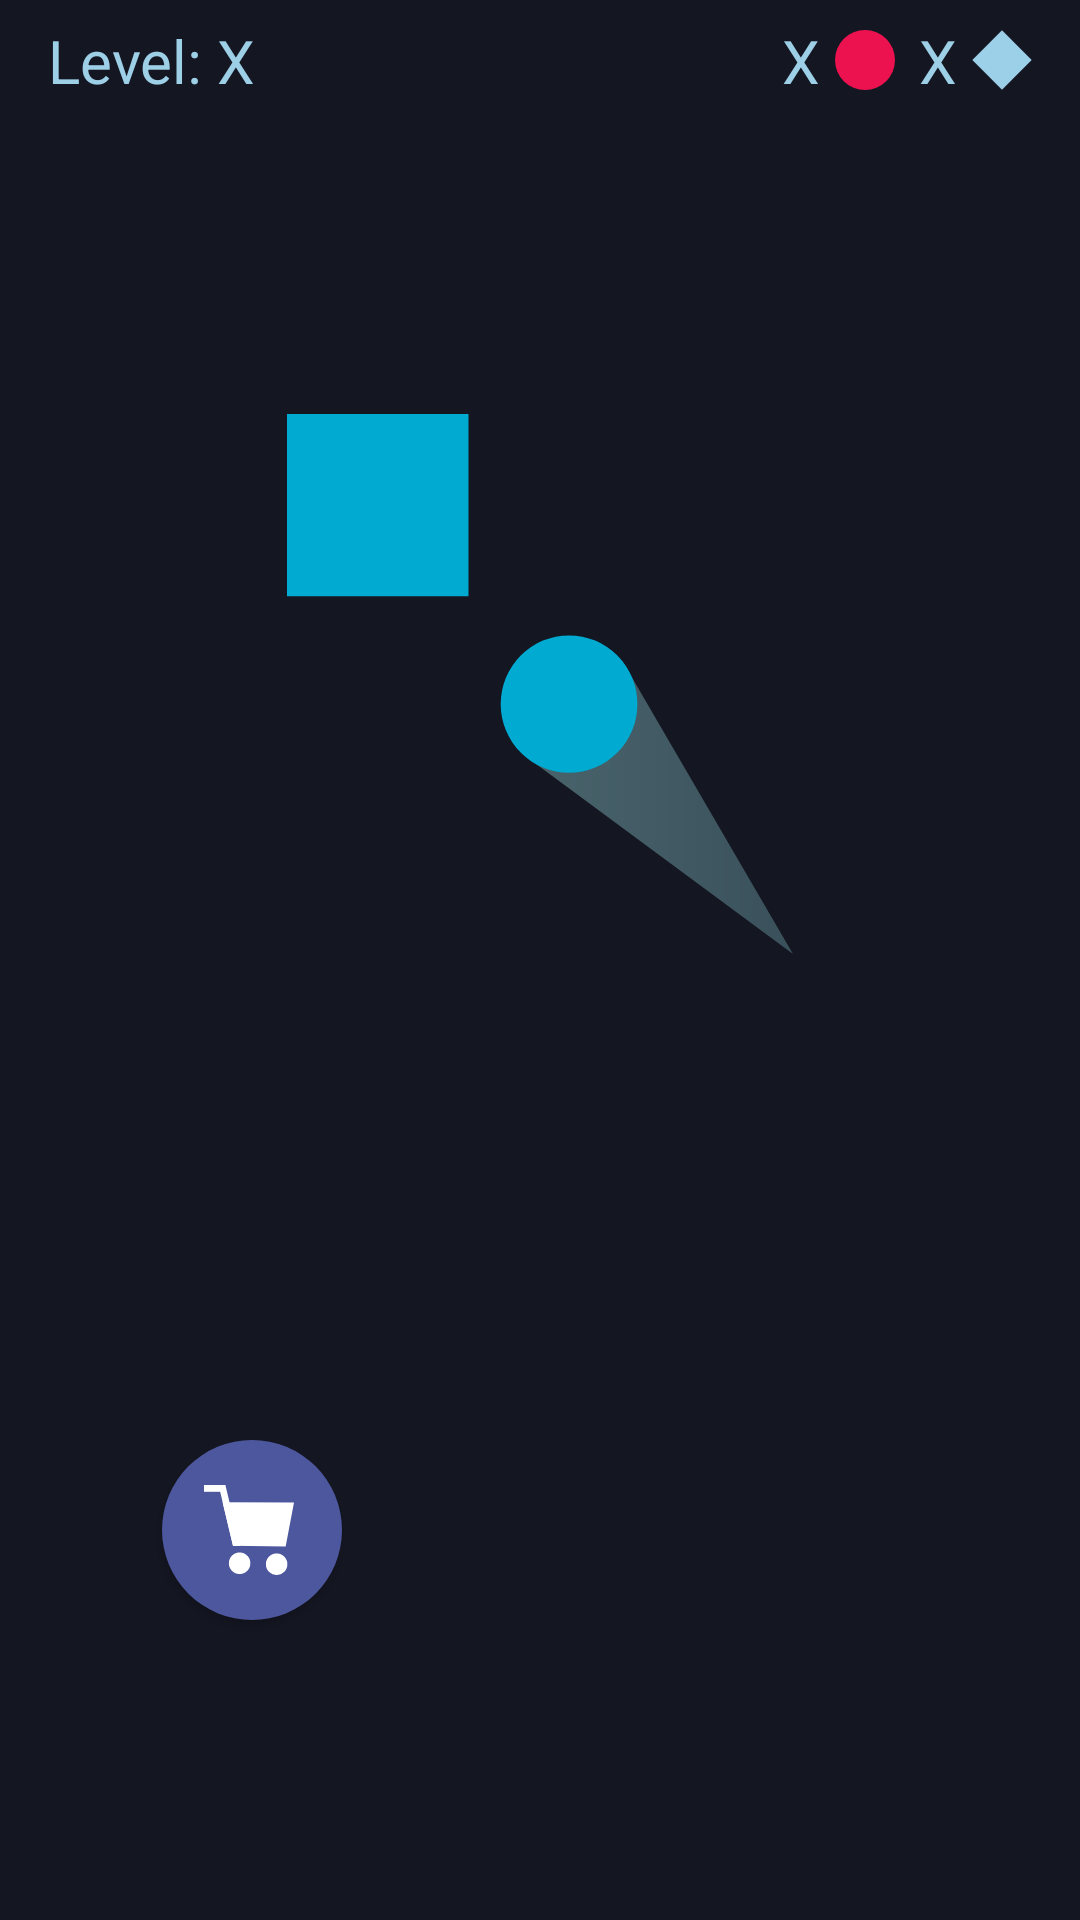

Where to tap for icons on this 1080px x 1920px app screen, as [x,y]:
shop: [252,1530]
